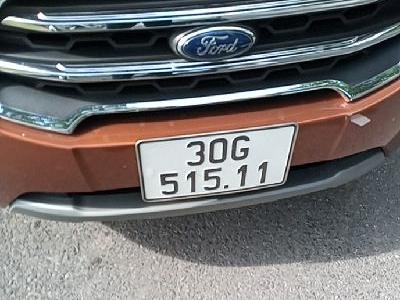lisence: (135, 123, 298, 203)
